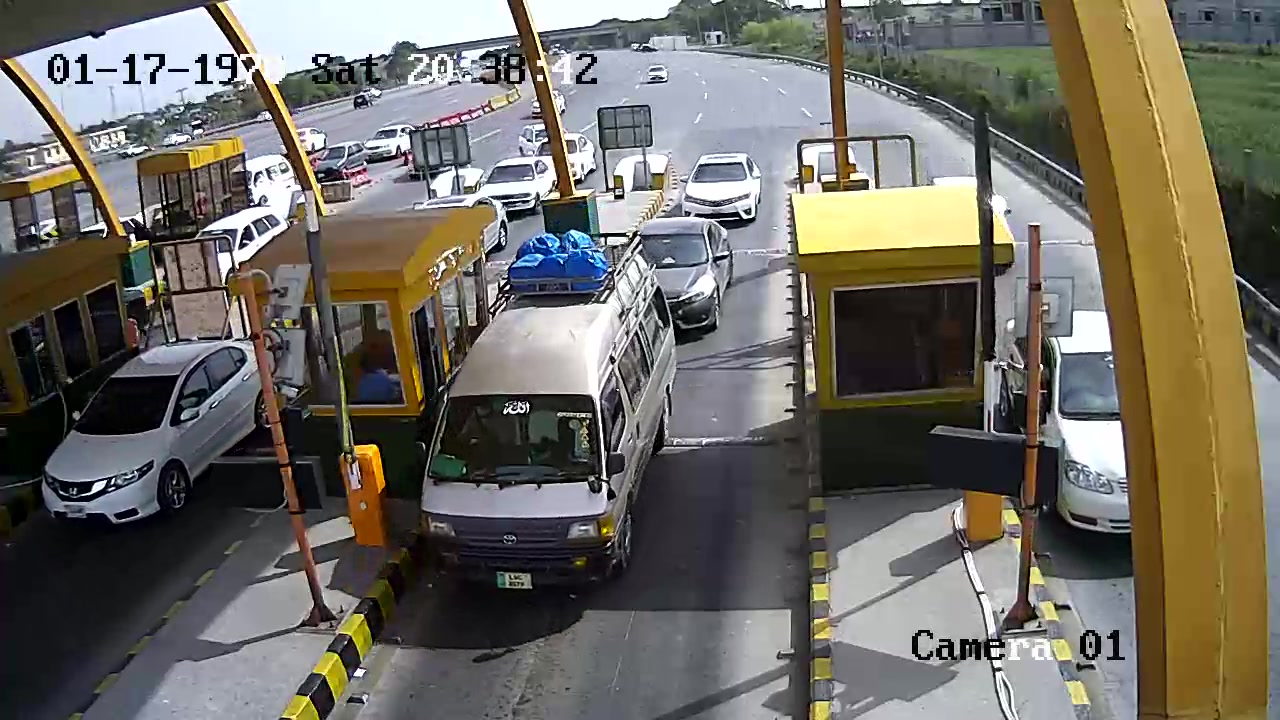F2: (400, 229, 686, 633)
